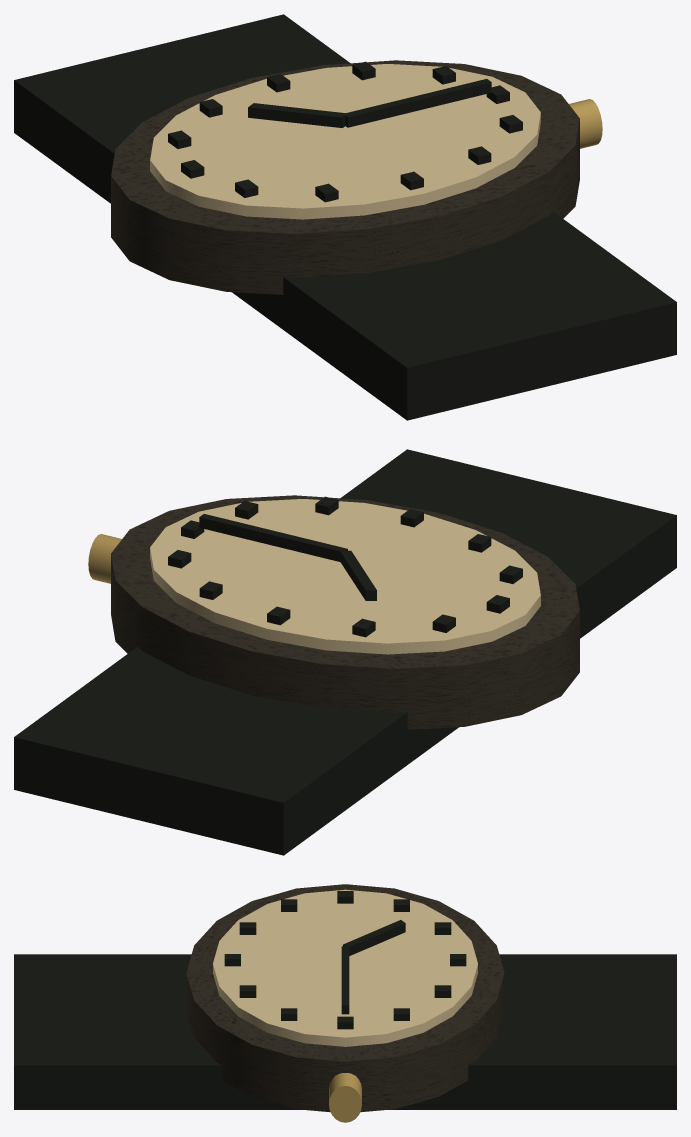
3 renders of one model, top to bottom at view 1: azimuth 30°, elevation 25°; view 2: azimuth 150°, elevation 25°; view 3: azimuth 270°, elevation 25°, orthographic. The views are drawn at different scales.
Visible parts, largest first — view 1: c-watch; view 2: c-watch; view 3: c-watch.
Boxes of the visible parts, x1,y1,x2,y2 form: c-watch: (14, 14, 676, 420); c-watch: (14, 449, 676, 855); c-watch: (14, 884, 676, 1122).
Size of the model in its own units: 0.17 by 0.045 by 0.25.
4 materials, 1 textured.
